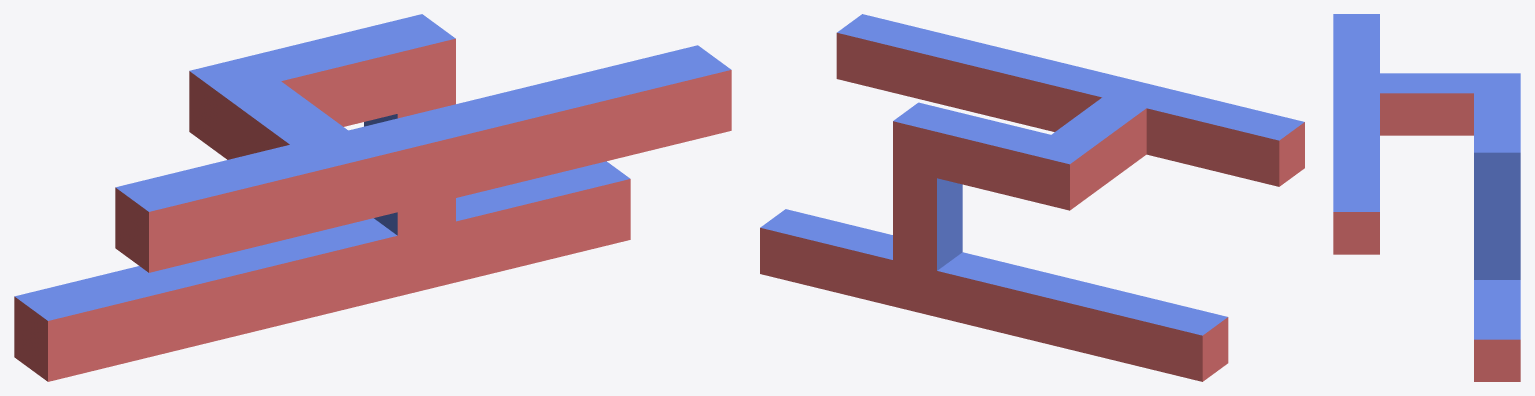
Rendered from cnot_rotate_y_90.dae.
The picture shows the model from 3 angles, left to right: view 1: azimuth 30°, elevation 25°; view 2: azimuth 150°, elevation 25°; view 3: azimuth 270°, elevation 25°; orthographic projection. The views are drawn at different scales.
Parts seen in each view (by area): view 1: zxo (×14), zxx (×16), zxz (×3), zox (×2), oxz; view 2: zxo (×14), zxx (×15), oxz (×2), zxz (×3), zox (×2); view 3: zxx (×8), zxo (×5), zox (×2), oxz, zxz.
Part boxes in pixels (<box>): zxo (×14): <box>73,28,673,367</box>; zxx (×16): <box>14,45,731,381</box>; zxz (×3): <box>364,14,455,296</box>; zox (×2): <box>223,81,347,159</box>; oxz: <box>397,99,455,235</box>; zxo (×14): <box>804,25,1260,370</box>; zxx (×15): <box>760,14,1304,381</box>; oxz (×2): <box>893,167,962,270</box>; zxz (×3): <box>893,102,962,316</box>; zox (×2): <box>1051,97,1146,191</box>; zxx (×8): <box>1333,14,1520,381</box>; zxo (×5): <box>1333,33,1520,319</box>; zox (×2): <box>1380,73,1473,135</box>; oxz: <box>1474,195,1520,279</box>; zxz: <box>1474,133,1520,194</box>.
Size of the model in its own units: 10 by 4 by 4.
